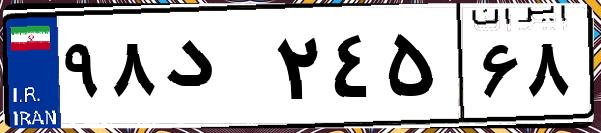2: (270, 28, 330, 110)
4: (330, 28, 385, 110)
5: (385, 28, 445, 110)
6: (475, 38, 525, 113)
8: (525, 38, 570, 115), (110, 28, 158, 98)
9: (57, 26, 110, 100)
د: (158, 20, 270, 120)
